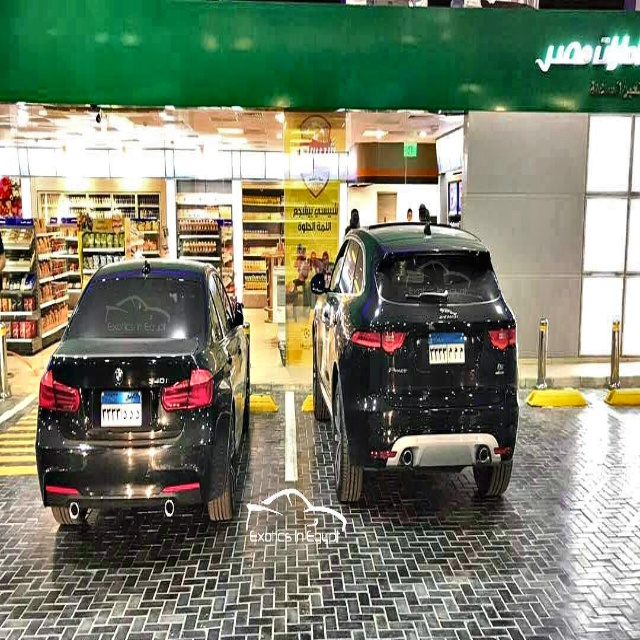License Plate: (99, 386, 143, 429), (427, 330, 468, 369)
